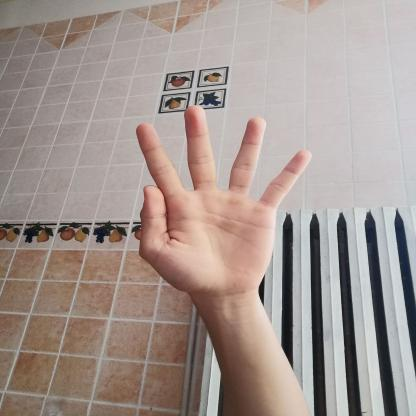SHEEN: (118, 95, 326, 307)
